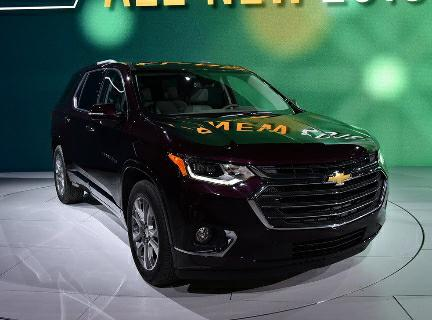雪佛兰-Traverse: (47, 54, 402, 287)
